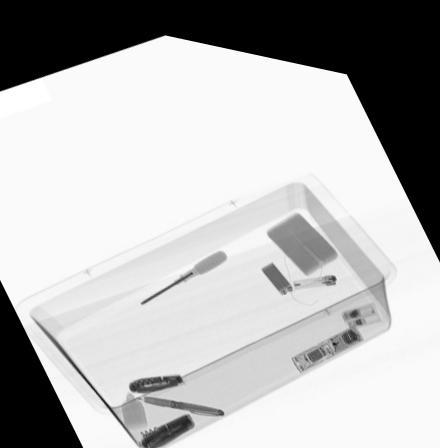Knife: (138, 404, 194, 444), (126, 364, 182, 386)
